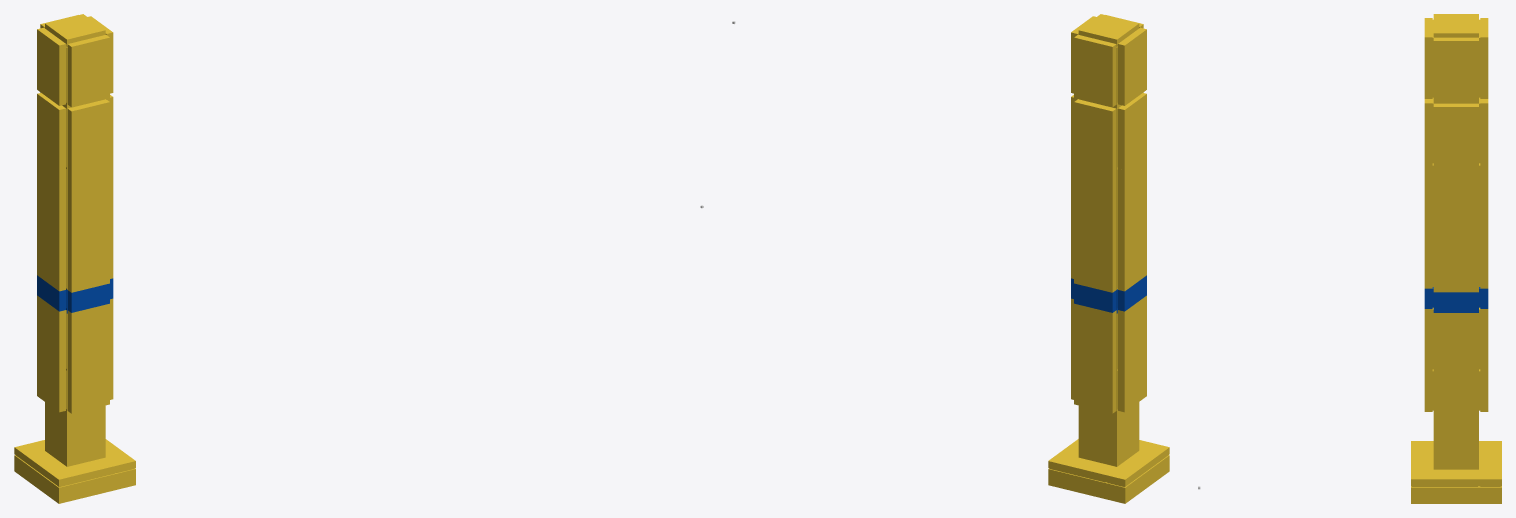
The picture shows the model from 3 angles, left to right: view 1: azimuth 30°, elevation 25°; view 2: azimuth 150°, elevation 25°; view 3: azimuth 270°, elevation 25°; orthographic projection. The views are drawn at different scales.
Parts seen in each view (by area): view 1: 太原地铁; view 2: 太原地铁; view 3: 太原地铁.
Boxes of the visible parts, x1,y1,x2,y2 form: 太原地铁: [14, 14, 135, 503]; 太原地铁: [1048, 14, 1169, 503]; 太原地铁: [1411, 14, 1501, 503].
Size of the model in its own units: 561 by 448 by 267.
